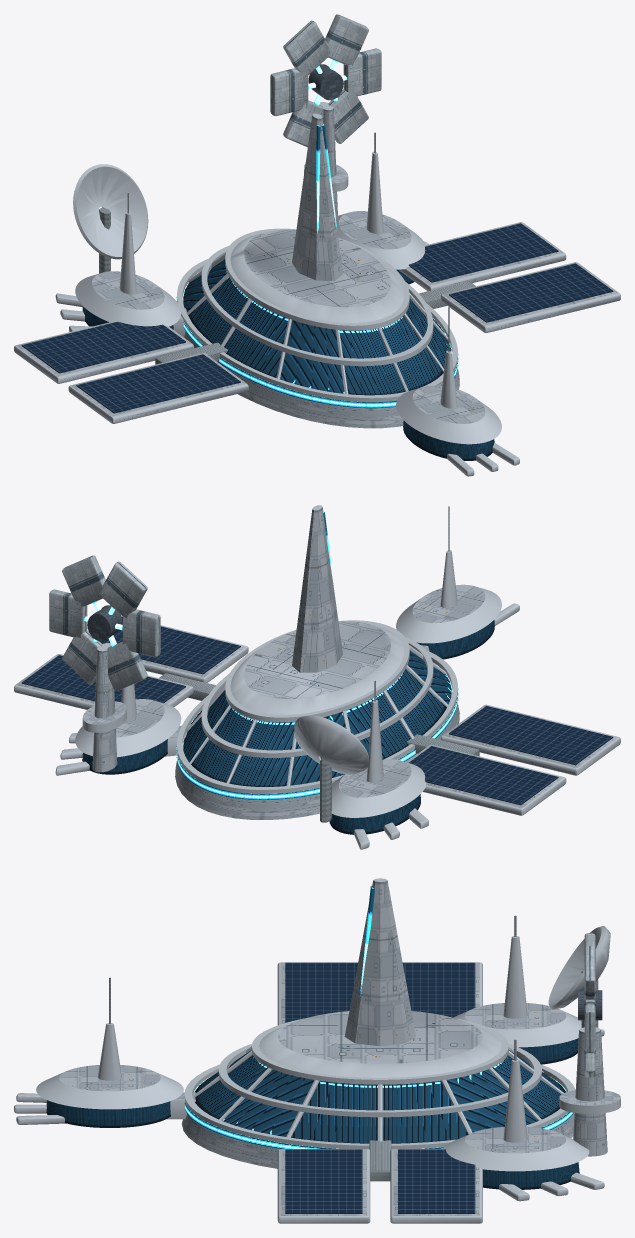
The model's file is alliance_research_outpost_recreated.glb.
3 renders of one model, top to bottom at view 1: azimuth 30°, elevation 25°; view 2: azimuth 150°, elevation 25°; view 3: azimuth 270°, elevation 25°, orthographic. The views are drawn at different scales.
Parts seen in each view (by area): view 1: alliance_research_outpost_recreated; view 2: alliance_research_outpost_recreated; view 3: alliance_research_outpost_recreated.
Boxes of the visible parts, <box> form: alliance_research_outpost_recreated: <box>14,14,620,476</box>; alliance_research_outpost_recreated: <box>14,505,620,849</box>; alliance_research_outpost_recreated: <box>14,878,620,1223</box>.
Bounding box in the file's own units: 7.56 × 3.37 × 7.59.
1 material, 1 textured.
